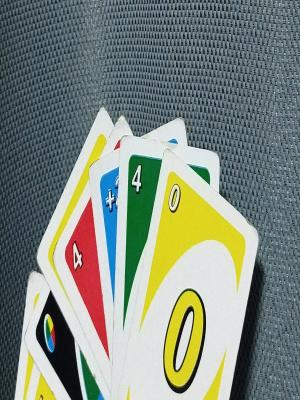green: (129, 157, 146, 214)
num_0: (164, 177, 186, 229)
red: (67, 236, 95, 292)
wild: (33, 311, 64, 362)
